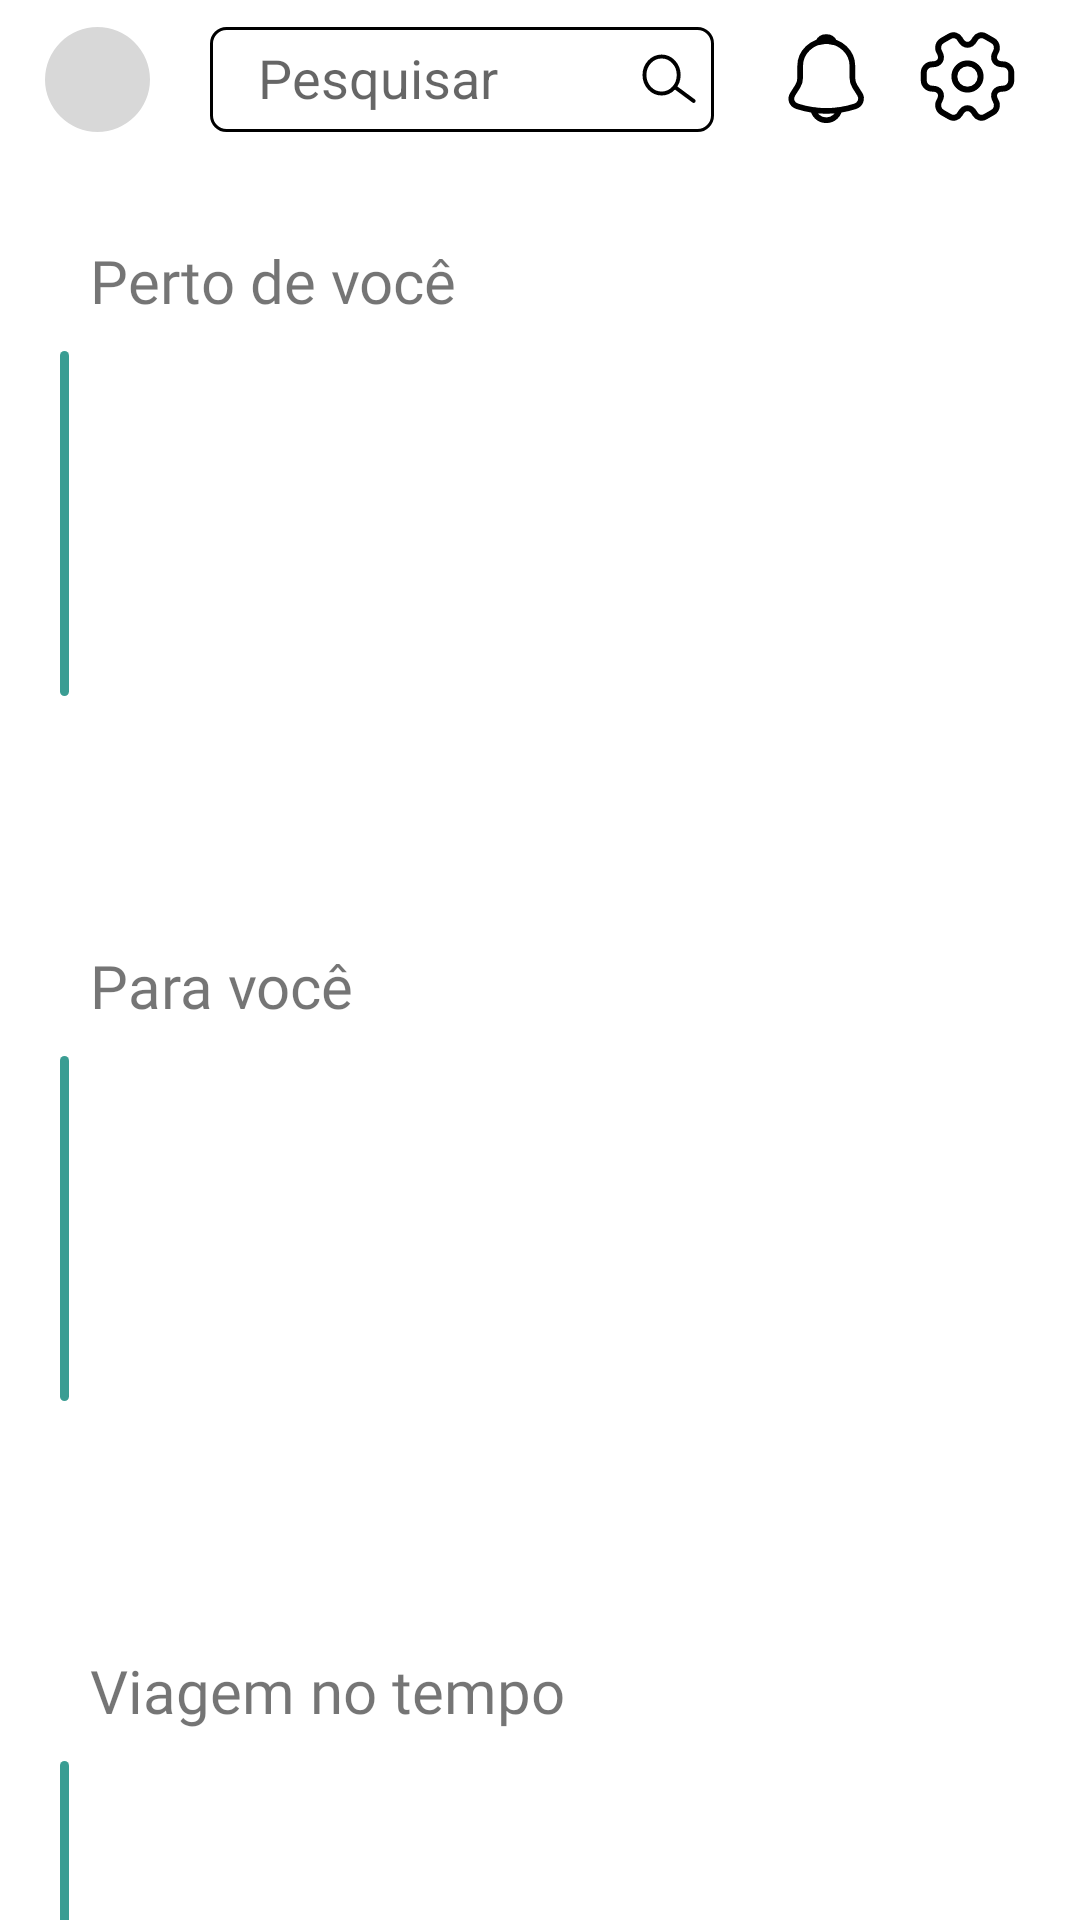

Icons on this 1080 x 1920 Android screen, each with its box as (x1, y1, x2, y2):
iconlupa: (642, 54, 696, 103)
